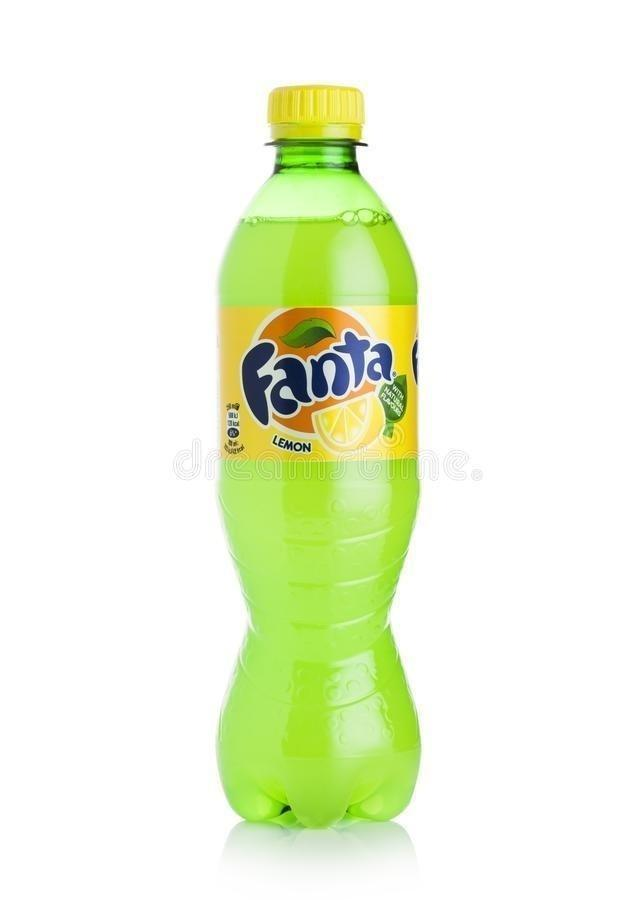bottle-plastic: (209, 79, 427, 833)
